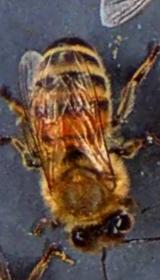varroa_mite: (32, 112, 62, 140)
